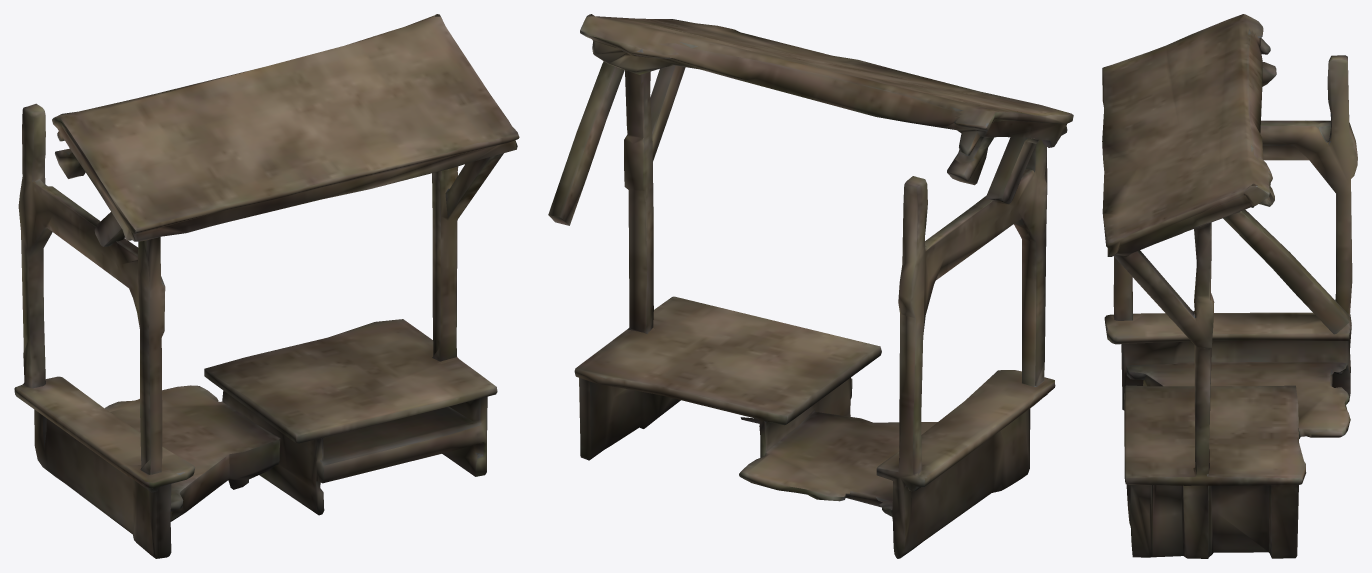
File: chipped-wood-market-stall-v001.glb
The picture shows the model from 3 angles, left to right: view 1: azimuth 30°, elevation 25°; view 2: azimuth 150°, elevation 25°; view 3: azimuth 270°, elevation 25°; orthographic projection. The views are drawn at different scales.
Visible parts, largest first — view 1: chipped-wood-market-stall; view 2: chipped-wood-market-stall; view 3: chipped-wood-market-stall.
Part boxes in pixels (x1,y1,x2,y2): chipped-wood-market-stall: [14, 14, 519, 558]; chipped-wood-market-stall: [548, 14, 1073, 558]; chipped-wood-market-stall: [1102, 14, 1357, 558].
Size of the model in its own units: 2.24 by 2.26 by 1.37.
Materials: 1 (1 with a texture image).
